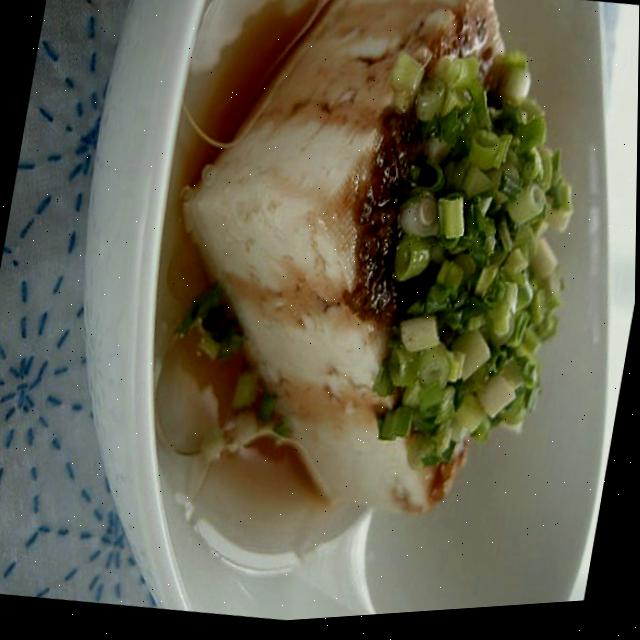豆腐料理: (131, 0, 617, 563)
